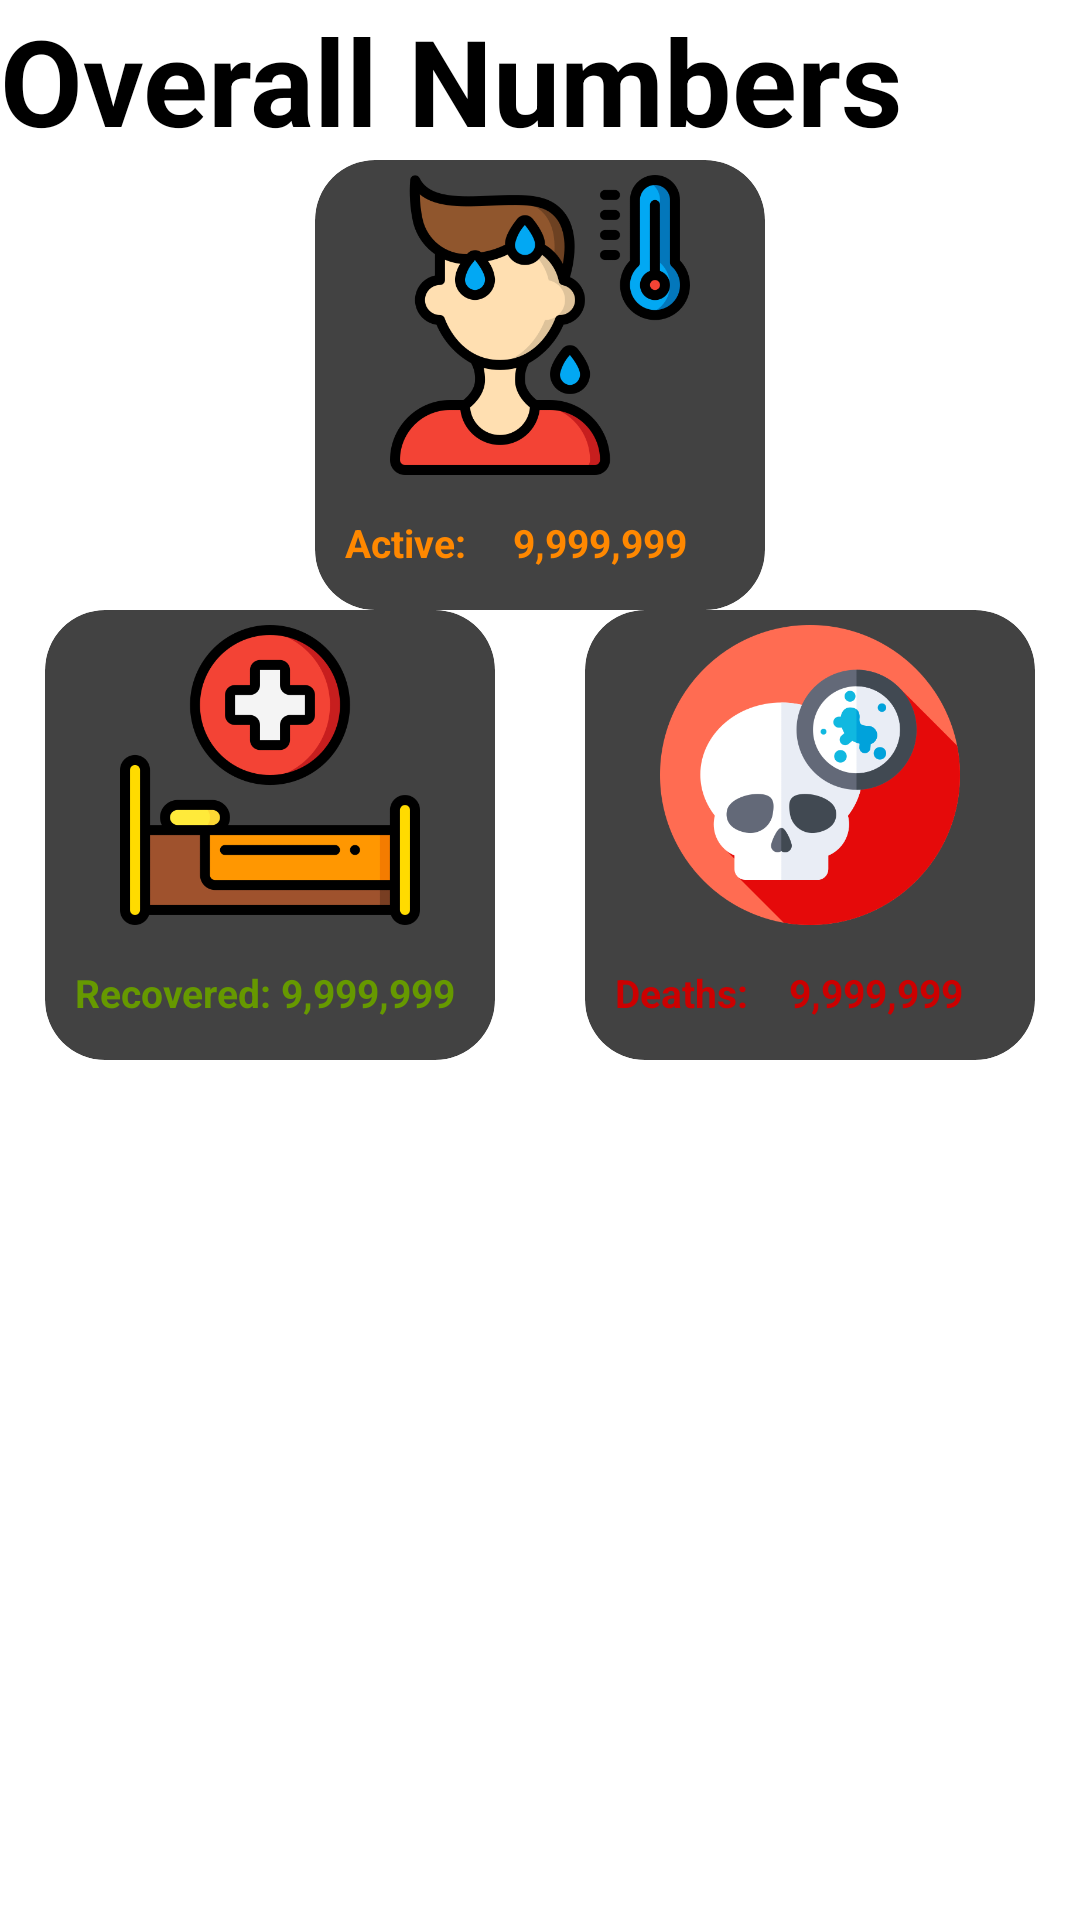

Icon click points for this 1080*1920 phone screenshot, format point (x, y):
cases: point (540, 325)
